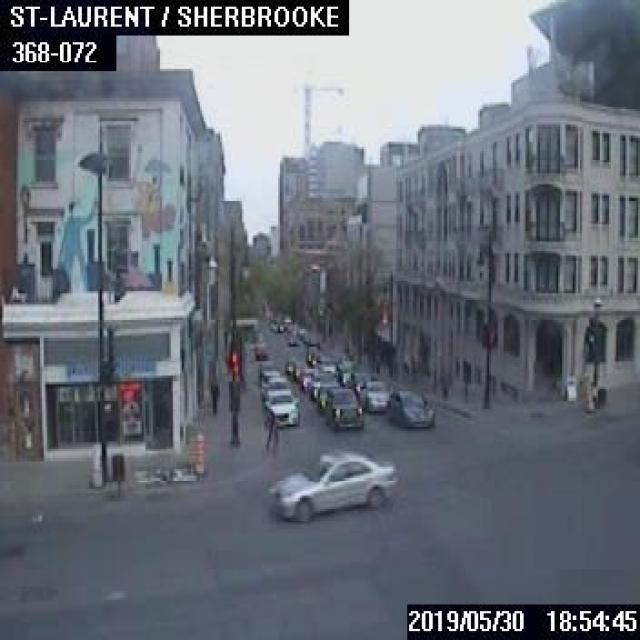construction: (191, 434, 204, 476), (89, 440, 100, 487), (580, 371, 591, 411)
pedestrian: (264, 402, 278, 444), (206, 374, 218, 414)
vehicle: (264, 449, 394, 520), (386, 389, 435, 427), (324, 387, 362, 427), (264, 388, 299, 424), (356, 377, 390, 411), (315, 380, 339, 410), (310, 372, 336, 398), (259, 369, 280, 396), (346, 370, 369, 391), (264, 375, 286, 396), (317, 357, 336, 374), (254, 342, 266, 358)
